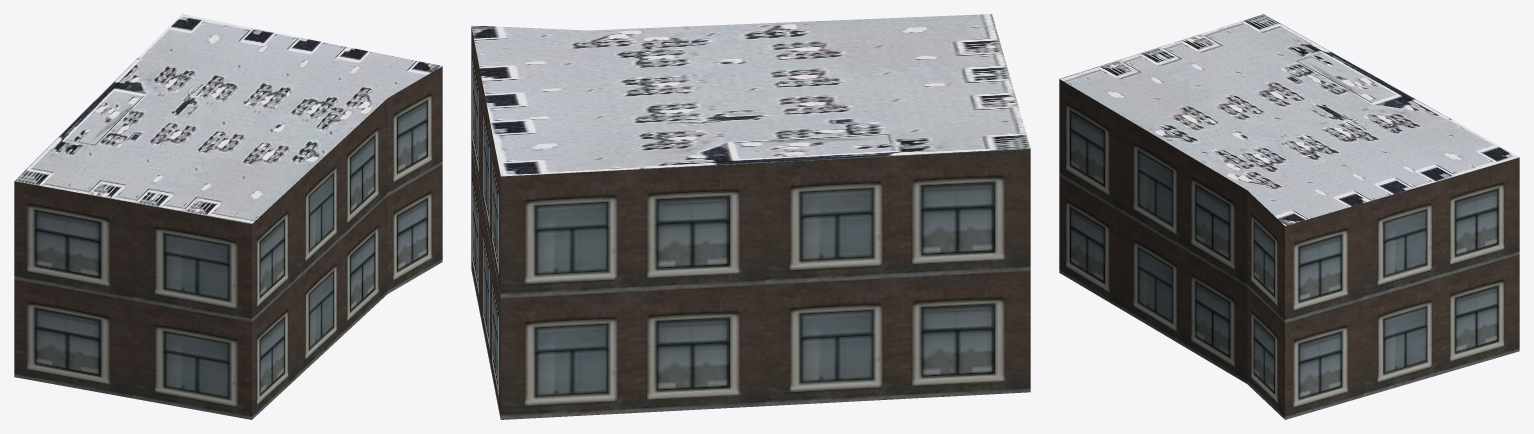
Rendered from ResTex__36.fbx.
3 views of the same model, side by side, from view 1: azimuth 30°, elevation 25°; view 2: azimuth 150°, elevation 25°; view 3: azimuth 270°, elevation 25° (orthographic). The views are drawn at different scales.
Visible parts, largest first — view 1: CityEngineMaterial_16_m, CityEngineMaterial_15_m; view 2: CityEngineMaterial_16_m, CityEngineMaterial_15_m; view 3: CityEngineMaterial_16_m, CityEngineMaterial_15_m.
Boxes of the visible parts, bbox=[...] form: CityEngineMaterial_16_m: bbox=[14, 66, 442, 419]; CityEngineMaterial_15_m: bbox=[14, 14, 442, 223]; CityEngineMaterial_16_m: bbox=[471, 27, 1030, 419]; CityEngineMaterial_15_m: bbox=[471, 14, 1030, 176]; CityEngineMaterial_16_m: bbox=[1059, 79, 1519, 419]; CityEngineMaterial_15_m: bbox=[1059, 14, 1519, 225].
Bounding box in the file's own units: 14.08 × 6 × 12.92.
2 materials, 2 textured.
